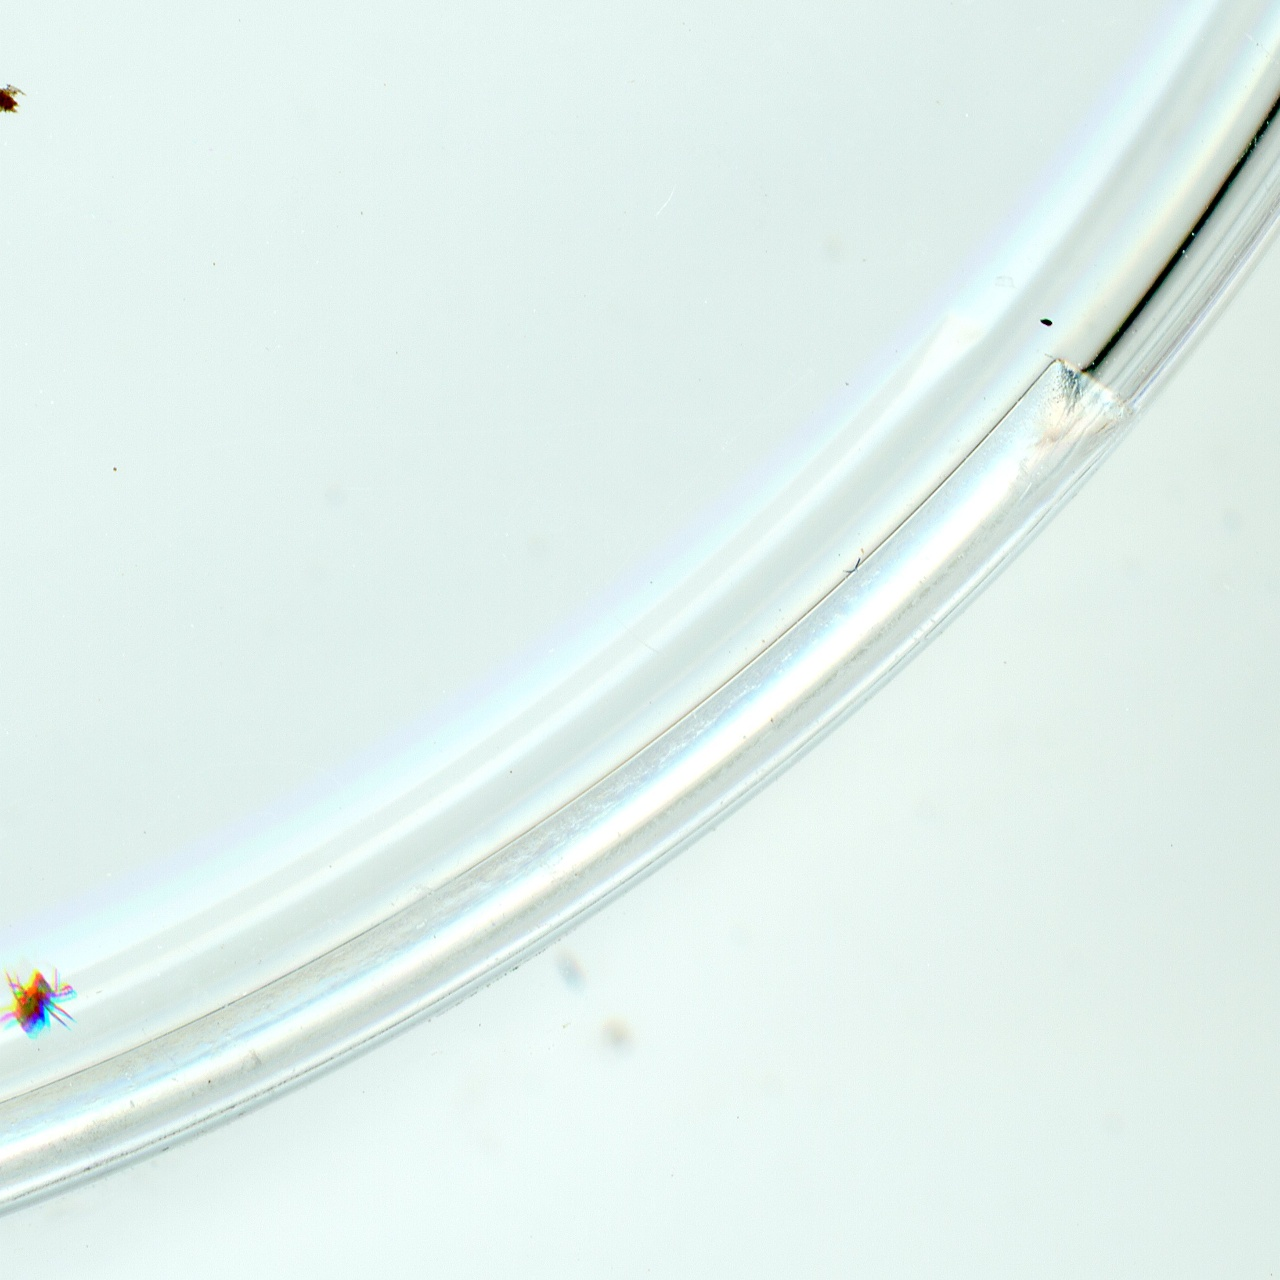arthropod: (0, 963, 79, 1041)
